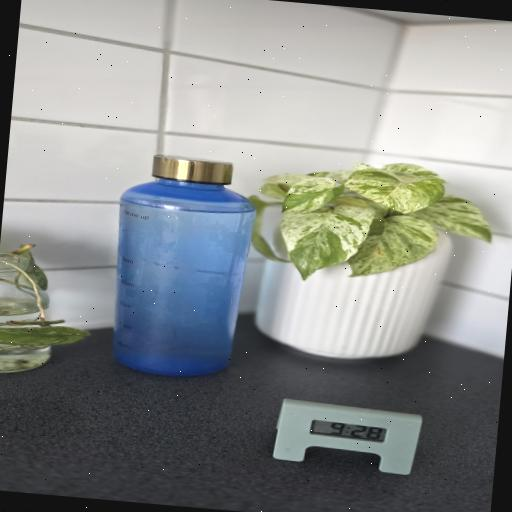bottle: (76, 116, 280, 392)
